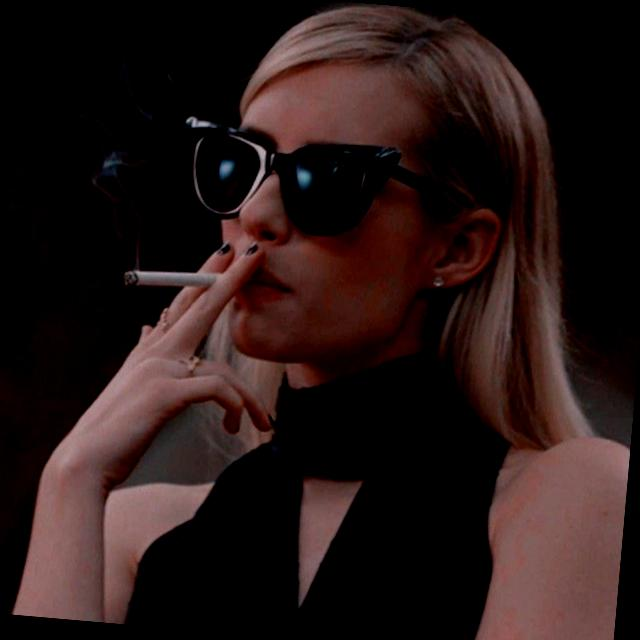smoke: (68, 216, 266, 304)
